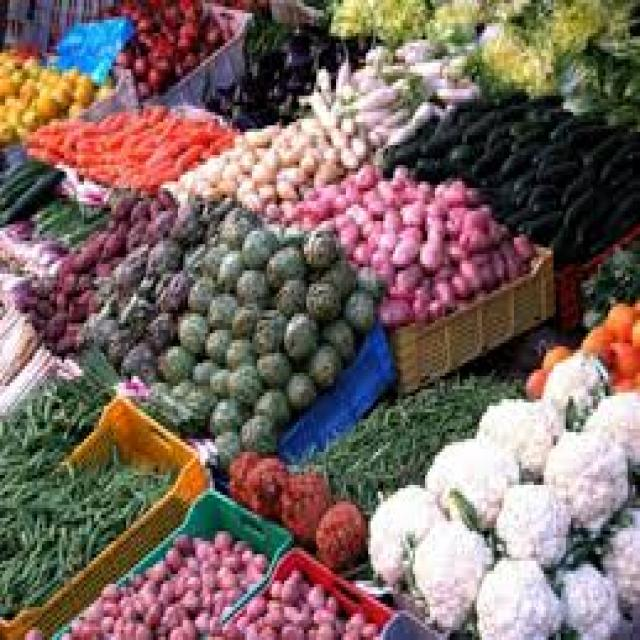organic waste: (544, 422, 628, 541), (410, 518, 489, 627), (422, 432, 516, 521), (363, 478, 442, 581), (472, 396, 566, 482), (299, 436, 425, 498), (472, 551, 561, 637), (56, 458, 118, 578), (0, 478, 57, 607), (541, 346, 613, 426), (554, 554, 622, 637), (580, 389, 638, 475), (580, 241, 638, 323), (596, 505, 638, 617), (334, 406, 444, 448), (17, 386, 77, 462), (32, 194, 111, 250), (104, 442, 170, 502), (474, 20, 524, 99), (532, 0, 600, 56), (0, 162, 64, 221), (0, 406, 52, 478), (279, 465, 329, 538), (509, 320, 573, 376), (49, 363, 102, 429), (398, 386, 474, 432), (0, 340, 44, 419), (314, 498, 361, 564), (548, 46, 608, 96), (366, 0, 428, 46), (506, 33, 554, 92), (422, 0, 479, 49), (0, 310, 35, 386), (141, 380, 190, 432), (378, 119, 430, 168), (57, 162, 109, 211), (462, 95, 521, 138), (435, 366, 519, 396), (524, 20, 600, 53), (245, 452, 289, 508), (428, 10, 494, 46), (366, 6, 432, 40), (596, 0, 638, 53), (571, 128, 635, 162), (17, 238, 67, 280), (598, 53, 638, 102), (321, 7, 371, 46), (260, 238, 302, 284), (118, 333, 156, 383), (284, 306, 319, 359), (511, 92, 561, 129), (299, 221, 339, 267), (598, 132, 638, 178), (0, 155, 42, 198), (240, 409, 274, 462), (252, 382, 292, 426), (225, 445, 259, 495), (225, 356, 259, 406), (326, 0, 368, 40), (571, 201, 613, 241), (141, 231, 180, 274), (588, 29, 638, 62), (511, 208, 561, 241), (558, 182, 596, 224), (583, 218, 638, 247), (165, 198, 202, 241), (598, 337, 638, 376), (240, 221, 276, 264), (272, 7, 331, 33), (558, 82, 603, 116), (87, 314, 121, 359), (435, 139, 487, 168), (153, 112, 203, 142), (558, 168, 598, 205), (306, 340, 341, 382), (319, 254, 353, 297), (114, 125, 153, 162), (346, 89, 408, 112), (156, 340, 192, 379), (173, 310, 208, 350), (250, 306, 282, 349), (237, 7, 272, 46), (415, 122, 460, 152), (114, 248, 146, 290), (272, 274, 309, 310), (440, 43, 474, 82), (22, 139, 67, 168), (180, 386, 210, 429), (242, 43, 272, 86), (277, 26, 316, 59), (306, 277, 338, 317), (390, 221, 422, 261), (415, 228, 445, 270), (228, 99, 270, 129), (144, 307, 176, 346), (180, 274, 212, 313), (344, 287, 373, 330), (581, 320, 615, 356), (464, 149, 506, 178), (526, 135, 571, 162), (425, 267, 455, 307), (322, 317, 348, 363), (373, 294, 410, 326), (390, 33, 435, 59), (208, 429, 235, 472), (208, 392, 242, 426), (386, 260, 420, 294), (238, 264, 270, 300), (482, 0, 539, 20), (126, 102, 163, 132), (598, 201, 638, 228), (329, 40, 351, 89), (215, 244, 240, 287), (119, 303, 148, 340), (141, 201, 170, 238), (72, 155, 118, 178), (128, 587, 160, 620), (539, 158, 583, 182), (128, 162, 176, 184), (0, 218, 27, 257), (598, 96, 638, 122), (86, 125, 124, 152), (406, 284, 438, 316), (252, 350, 287, 379), (250, 142, 276, 181), (309, 56, 331, 102), (425, 82, 484, 99), (435, 102, 494, 119), (457, 257, 482, 297), (524, 181, 561, 208), (346, 59, 383, 86), (363, 234, 393, 267), (15, 274, 49, 303), (566, 118, 615, 138), (89, 261, 116, 297), (0, 234, 32, 264), (242, 122, 277, 149), (497, 241, 521, 280), (228, 304, 260, 333), (432, 175, 464, 204), (60, 136, 102, 158), (354, 260, 381, 294), (208, 290, 235, 324), (45, 323, 79, 350), (336, 221, 361, 257), (64, 287, 94, 317), (445, 267, 472, 300), (185, 172, 215, 201), (287, 373, 311, 409), (304, 192, 331, 224), (284, 115, 316, 142), (154, 274, 180, 307), (606, 162, 638, 188), (521, 363, 546, 396), (5, 89, 30, 122), (195, 241, 220, 274), (180, 241, 205, 274), (474, 244, 494, 284), (32, 115, 79, 132), (205, 327, 232, 356), (225, 215, 252, 244), (225, 73, 252, 102), (222, 340, 252, 366), (134, 13, 160, 43), (144, 138, 176, 162), (413, 63, 442, 89), (198, 195, 227, 221), (442, 234, 467, 264), (156, 570, 178, 604), (351, 158, 373, 192), (212, 204, 232, 241), (482, 122, 519, 142), (0, 270, 17, 313), (126, 290, 153, 317), (459, 202, 492, 224), (272, 165, 294, 198), (494, 182, 519, 211), (294, 142, 319, 171), (279, 63, 304, 92), (606, 300, 630, 330), (606, 370, 638, 392), (312, 158, 338, 185), (91, 109, 126, 129), (507, 228, 531, 257), (146, 158, 175, 182), (260, 76, 284, 105), (101, 323, 126, 350), (94, 165, 136, 181), (554, 241, 583, 264), (536, 340, 561, 366), (173, 142, 198, 168), (114, 600, 141, 624), (383, 72, 415, 92), (163, 372, 195, 392), (67, 238, 89, 267), (0, 142, 22, 171), (512, 165, 536, 191), (210, 175, 237, 198), (200, 86, 227, 109), (237, 554, 262, 578), (405, 50, 465, 60), (195, 16, 220, 40), (274, 89, 294, 119), (220, 577, 242, 604), (380, 204, 402, 231), (608, 182, 637, 202), (544, 228, 573, 248), (42, 307, 62, 336), (484, 218, 509, 241), (442, 205, 467, 228), (143, 29, 168, 52), (190, 356, 218, 376), (274, 224, 302, 244), (232, 148, 255, 172), (52, 356, 76, 379), (94, 228, 119, 250), (487, 248, 504, 280), (200, 135, 232, 152), (260, 600, 280, 627), (459, 228, 486, 248), (326, 191, 346, 218), (175, 531, 198, 554), (205, 581, 225, 607), (208, 561, 228, 587), (160, 541, 180, 567), (108, 188, 128, 214), (49, 119, 89, 132), (205, 366, 222, 396), (146, 561, 168, 584), (371, 175, 393, 198), (170, 125, 192, 148), (309, 610, 338, 627), (128, 46, 146, 73), (341, 182, 363, 204), (238, 192, 260, 214), (622, 313, 638, 343), (339, 607, 363, 627), (50, 270, 74, 290), (146, 60, 170, 80), (138, 379, 166, 396), (296, 607, 314, 633), (7, 43, 25, 69), (217, 152, 235, 178), (54, 251, 70, 280), (20, 79, 34, 112), (195, 541, 215, 564), (22, 53, 42, 76), (480, 175, 500, 198), (27, 132, 62, 145), (277, 168, 309, 182), (304, 581, 321, 607), (277, 574, 294, 600), (396, 191, 422, 208), (312, 617, 334, 637), (354, 218, 376, 238), (299, 89, 321, 109), (230, 172, 252, 192), (277, 142, 299, 162), (270, 126, 292, 146), (128, 192, 148, 214), (82, 228, 104, 248), (34, 297, 56, 317), (49, 92, 67, 116), (420, 211, 445, 228), (358, 188, 383, 205), (89, 257, 114, 274), (406, 53, 432, 69), (190, 607, 208, 630), (39, 59, 57, 82), (331, 208, 349, 231), (356, 102, 380, 119), (198, 115, 222, 132), (74, 72, 94, 92), (363, 198, 388, 214), (279, 201, 299, 221), (202, 155, 222, 175), (176, 46, 196, 66), (168, 16, 188, 36), (96, 614, 114, 636), (175, 614, 193, 636), (0, 69, 12, 102), (143, 192, 161, 214), (126, 564, 143, 587), (34, 95, 50, 118), (279, 604, 297, 624), (242, 590, 257, 614), (111, 617, 129, 637), (247, 548, 265, 568), (22, 102, 37, 126), (165, 56, 183, 76), (99, 581, 121, 597), (422, 195, 444, 211), (235, 568, 247, 597), (242, 620, 262, 637), (84, 600, 101, 620), (193, 587, 210, 607), (393, 181, 413, 198), (316, 178, 336, 195), (314, 106, 331, 126), (252, 178, 272, 195), (381, 280, 405, 294), (0, 314, 15, 336), (121, 624, 148, 636), (388, 162, 408, 178), (338, 165, 354, 185), (338, 142, 354, 162), (212, 524, 225, 548), (410, 178, 428, 195), (326, 122, 344, 139), (279, 624, 304, 636), (79, 617, 94, 637), (625, 297, 638, 320), (205, 607, 218, 630), (10, 115, 27, 132), (151, 211, 168, 228), (7, 63, 25, 79), (348, 132, 366, 148), (260, 198, 274, 218), (230, 132, 244, 152), (319, 142, 336, 158), (257, 624, 279, 636), (230, 541, 250, 554), (0, 119, 10, 145), (111, 221, 131, 234), (69, 274, 89, 287), (126, 10, 146, 23), (284, 564, 299, 581), (336, 112, 351, 129), (220, 23, 235, 40), (358, 617, 373, 633), (62, 92, 74, 112), (156, 188, 170, 205), (264, 574, 274, 597), (336, 627, 358, 637), (69, 614, 79, 636), (22, 624, 40, 636), (296, 182, 314, 194), (151, 620, 163, 637), (225, 568, 235, 588), (346, 205, 361, 218), (324, 594, 336, 610), (294, 198, 306, 214), (375, 231, 393, 241), (296, 578, 304, 600), (234, 610, 244, 627), (12, 82, 28, 92), (165, 624, 178, 636), (64, 70, 77, 82), (210, 627, 225, 637), (116, 590, 126, 604), (0, 46, 7, 66), (464, 184, 477, 194), (20, 46, 32, 56), (225, 624, 235, 634), (94, 86, 106, 92), (57, 630, 67, 637), (0, 99, 5, 112), (126, 56, 129, 73)
